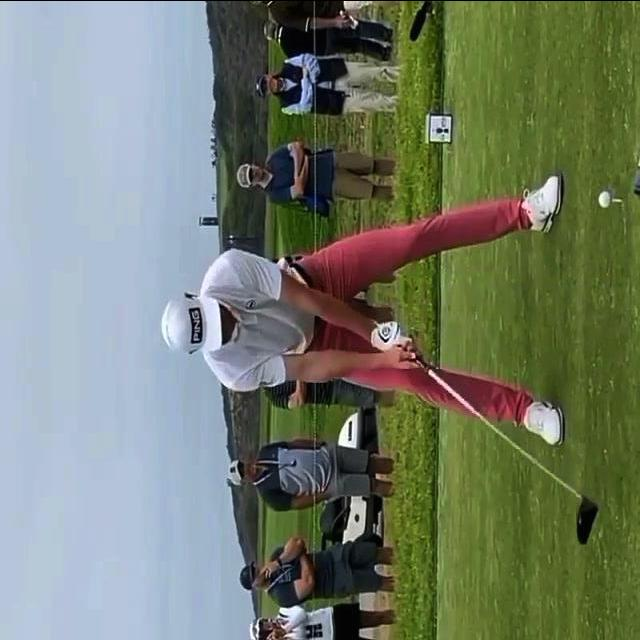ClubHandle: (416, 355, 599, 542)
ClubHead: (576, 500, 599, 542)
GolfBall: (599, 189, 612, 207)
